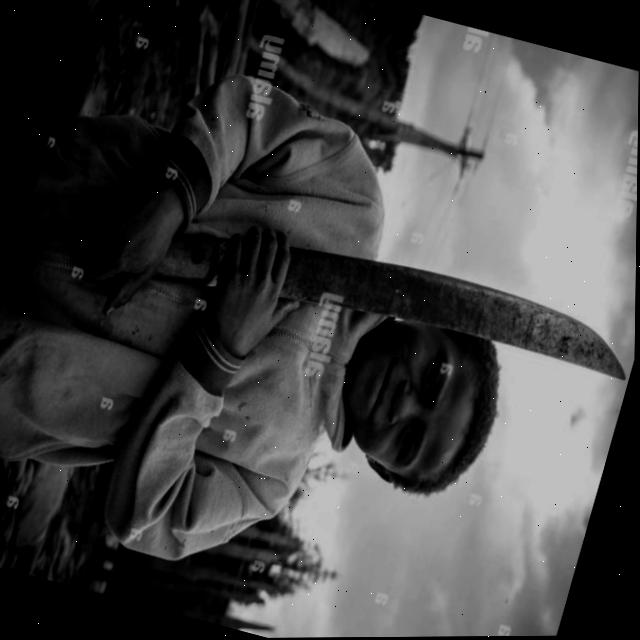long knife: (120, 154, 638, 402), (157, 226, 627, 379)
